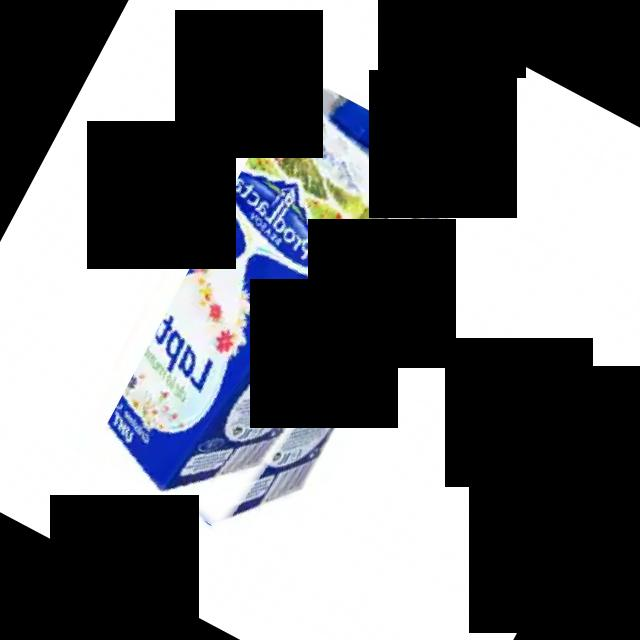milk: (87, 70, 479, 558)
